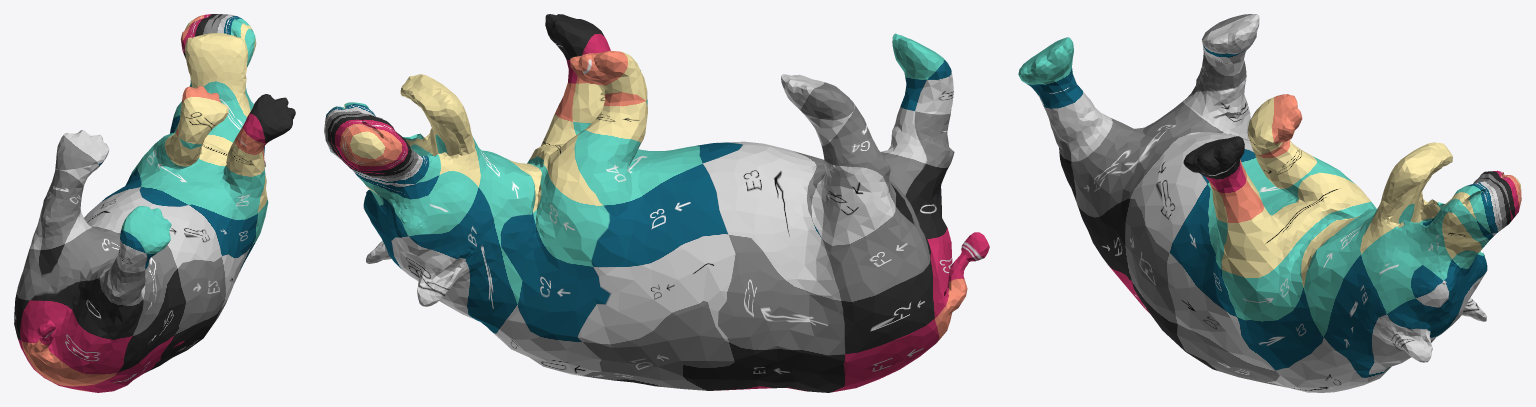
File: dog_05-hippo_06.obj
The picture shows the model from 3 angles, left to right: view 1: azimuth 30°, elevation 25°; view 2: azimuth 150°, elevation 25°; view 3: azimuth 270°, elevation 25°; orthographic projection. The views are drawn at different scales.
Visible parts, largest first — view 1: dog_05-hippo_06_export; view 2: dog_05-hippo_06_export; view 3: dog_05-hippo_06_export.
Part boxes in pixels (x1,y1,x2,y2): dog_05-hippo_06_export: (14,14,295,392); dog_05-hippo_06_export: (324,14,989,392); dog_05-hippo_06_export: (1018,14,1521,392).
Size of the model in its own units: 0.7416 by 0.49 by 0.7229.
